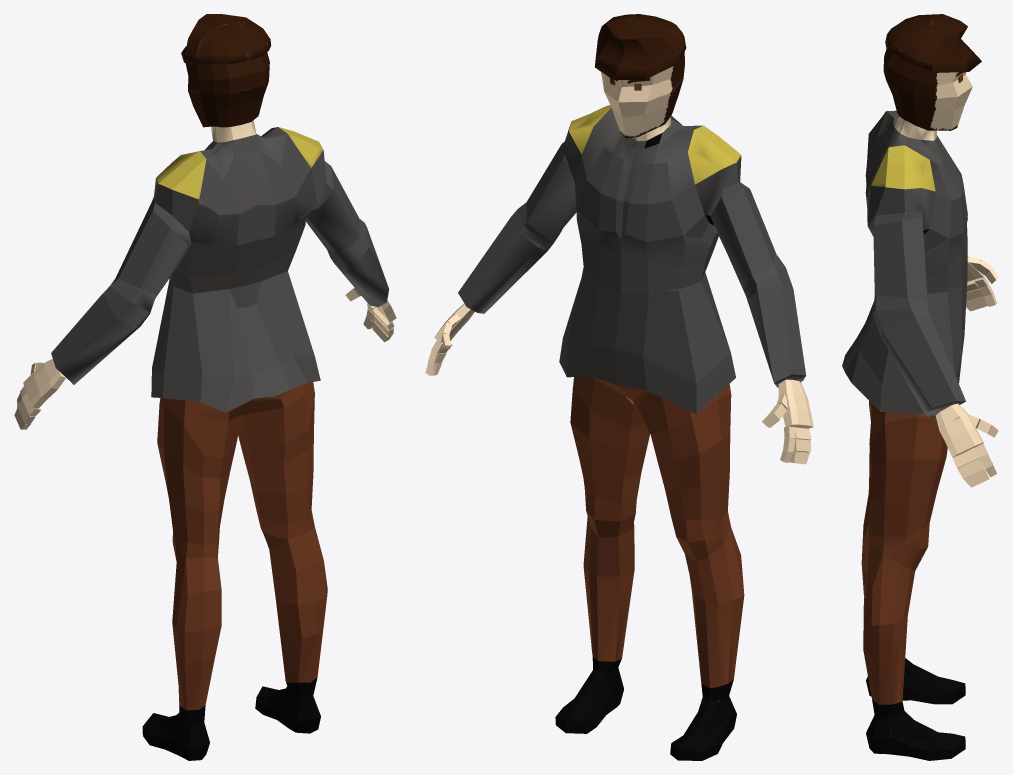
Rendered from bozman.fbx.
The picture shows the model from 3 angles, left to right: view 1: azimuth 30°, elevation 25°; view 2: azimuth 150°, elevation 25°; view 3: azimuth 270°, elevation 25°; orthographic projection.
Parts seen in each view (by area): view 1: Bozman; view 2: Bozman; view 3: Bozman.
Boxes of the visible parts, x1=… form: Bozman: x1=14, y1=14, x2=396, y2=760; Bozman: x1=425, y1=14, x2=813, y2=760; Bozman: x1=842, y1=14, x2=998, y2=760.
Size of the model in its own units: 1.06 by 1.92 by 0.3902.
